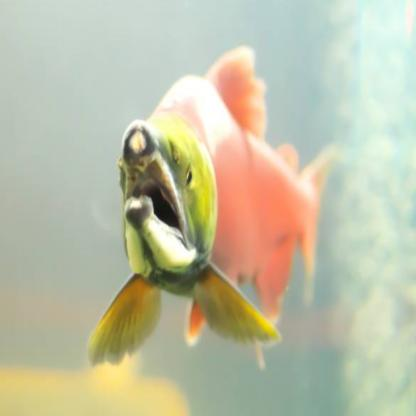sockeye: (110, 32, 311, 352)
